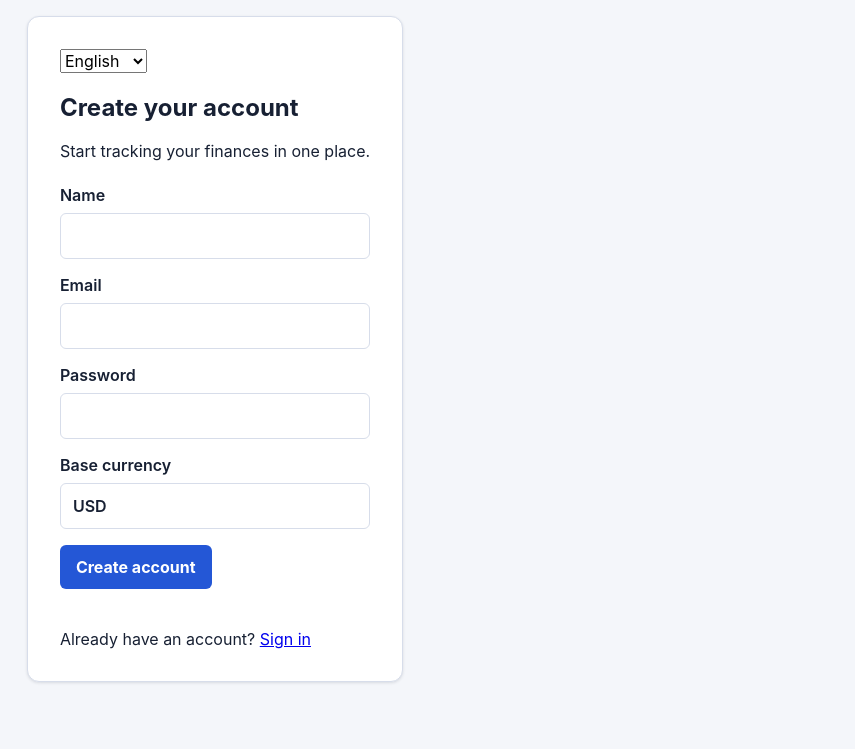
creates an account and returns to sign in
Type "Test User" into the field labelled "Name". click: (215, 236)
box: [60, 213, 370, 259]
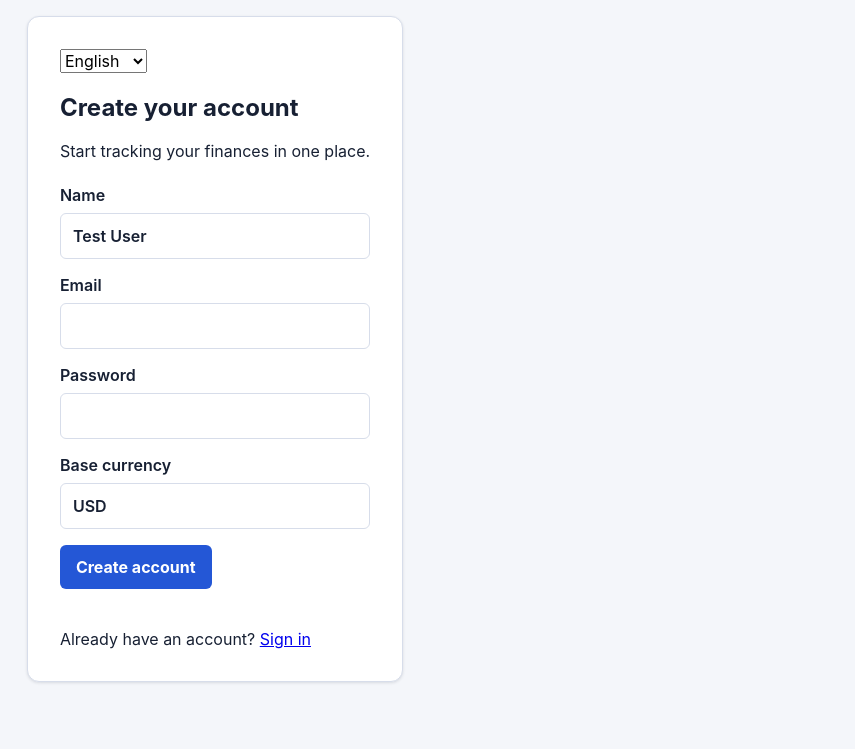
Type "person@example.test" into the field labelled "Email". click: (215, 326)
box: [60, 303, 370, 349]
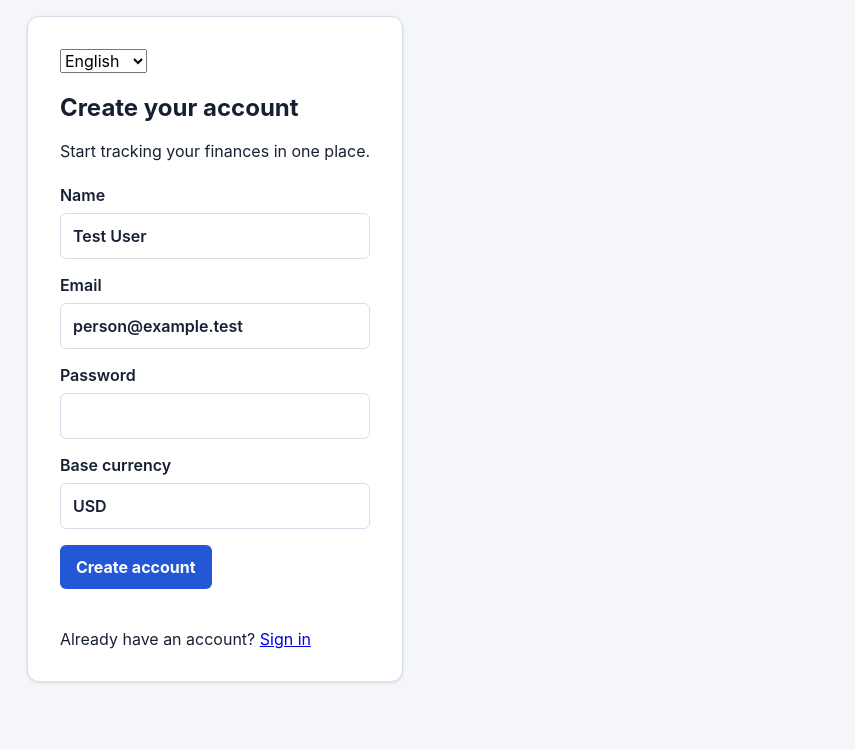
Type "password-for-testing" into the password field labelled "Password". click: (215, 416)
box: [60, 393, 370, 439]
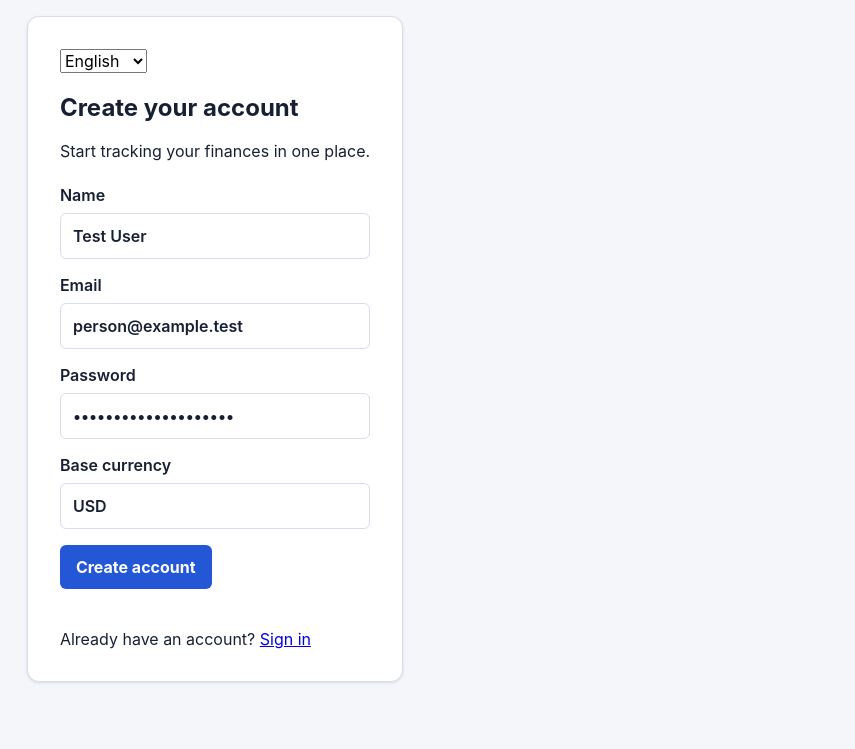
Click the button "Create account". click: (136, 567)
box: [60, 545, 212, 589]
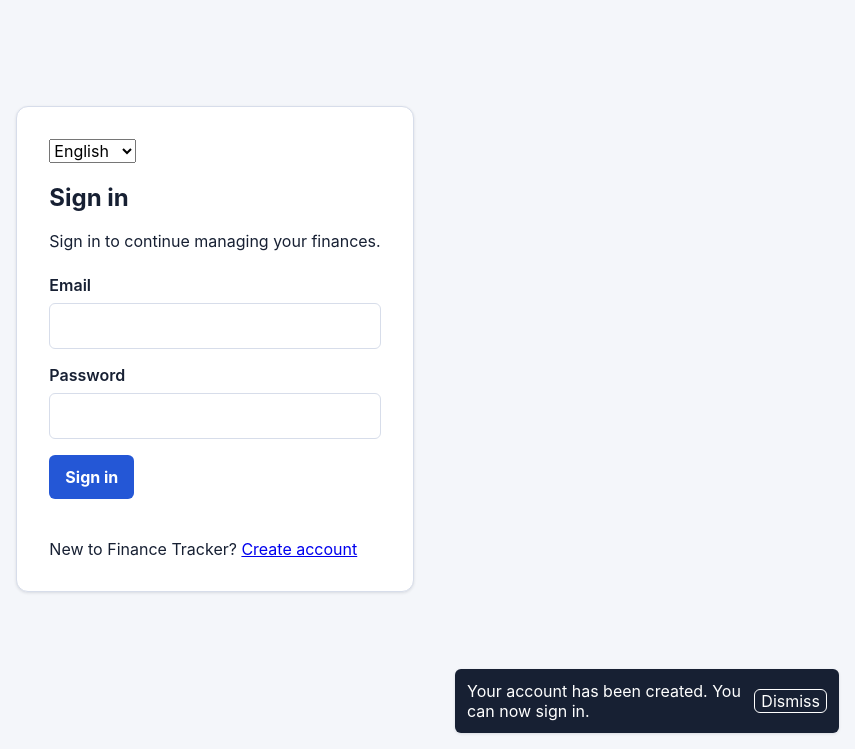
Result: the text "Your account has been created. You can now sign in." is shown at [467, 681, 742, 721]
Result: the heading "Sign in" is shown at [49, 182, 129, 212]
